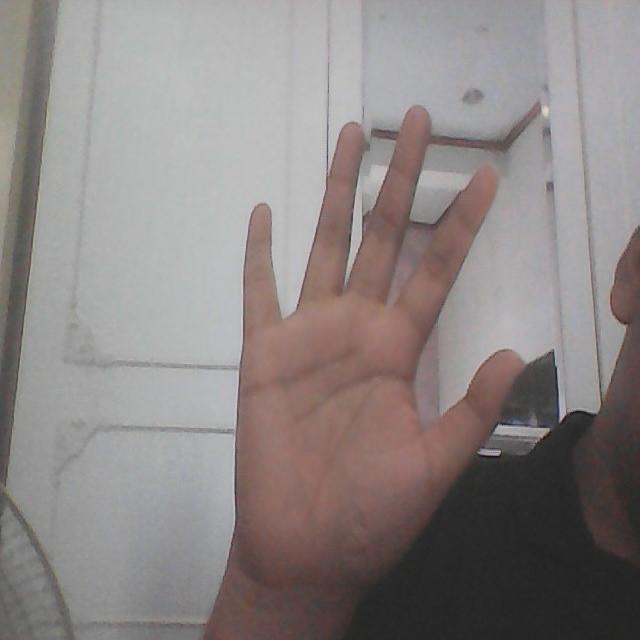hand: (209, 97, 530, 636)
